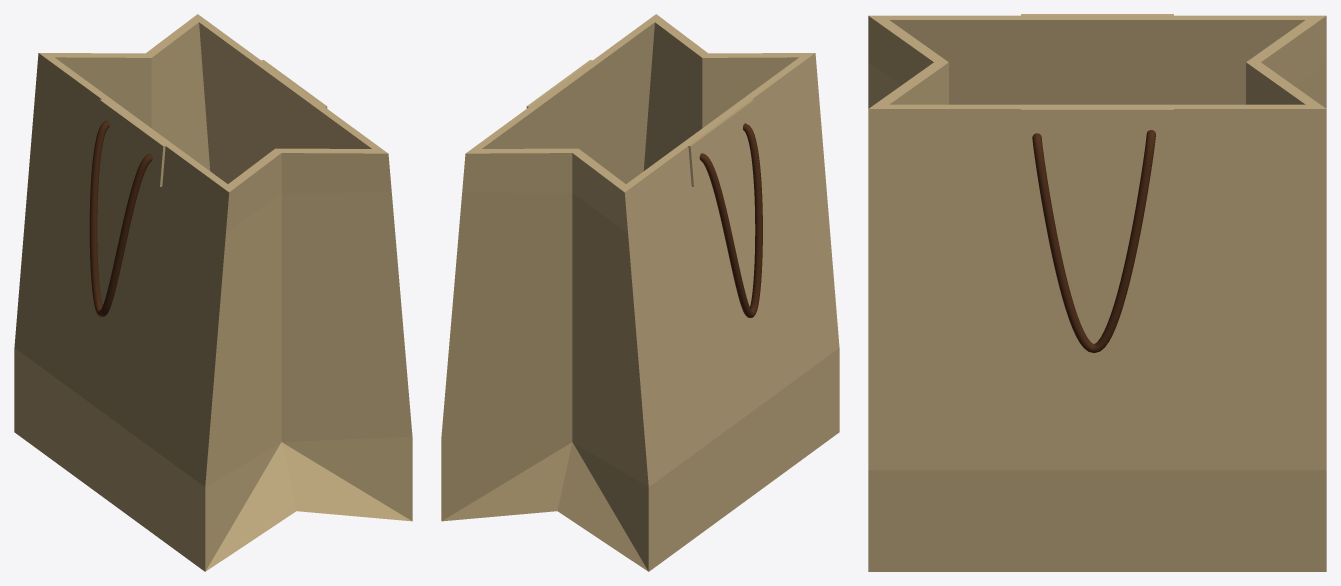
The model's file is Paper Bag.fbx.
3 renders of one model, left to right at view 1: azimuth 30°, elevation 25°; view 2: azimuth 150°, elevation 25°; view 3: azimuth 270°, elevation 25°, orthographic. The views are drawn at different scales.
Parts seen in each view (by area): view 1: Paper Bag, Curve.009; view 2: Paper Bag, Curve.009; view 3: Paper Bag, Curve.008.
Boxes of the visible parts, x1,y1,x2,y2 form: Paper Bag: (14, 14, 412, 571); Curve.009: (89, 120, 152, 316); Paper Bag: (441, 14, 839, 571); Curve.009: (699, 123, 762, 317); Paper Bag: (868, 14, 1326, 571); Curve.008: (1032, 130, 1155, 353).
Bounding box in the file's own units: 168 × 259 × 239.
